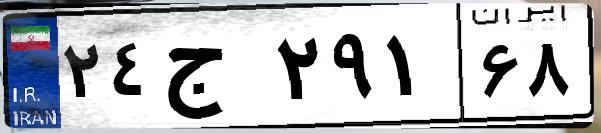1: (385, 28, 445, 110)
2: (270, 28, 330, 110), (57, 26, 110, 100)
4: (110, 28, 158, 98)
6: (475, 38, 525, 113)
8: (525, 38, 570, 115)
9: (330, 28, 385, 110)
ج: (158, 20, 270, 120)
